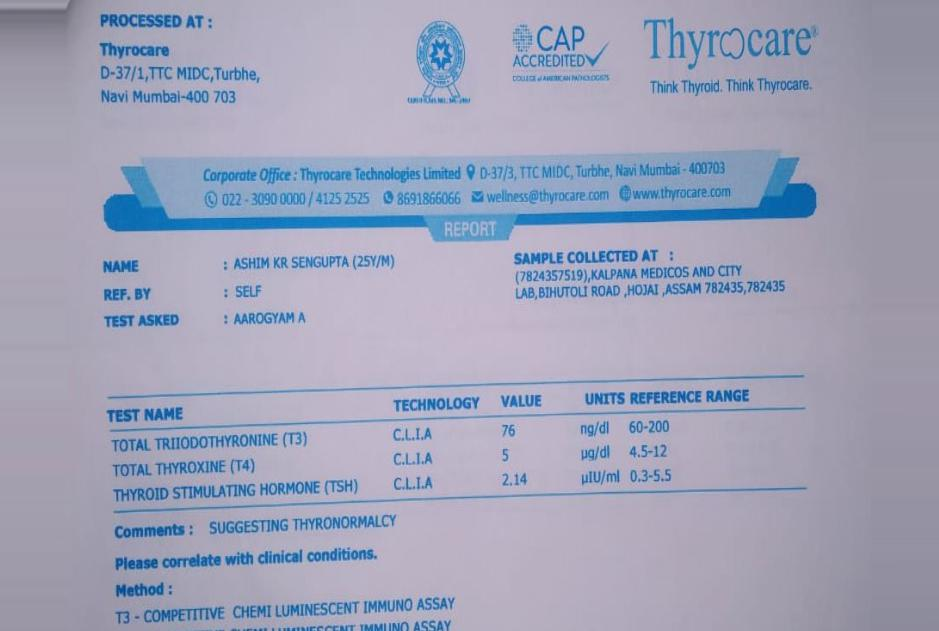Reference Range: (625, 411, 682, 495)
Test Name: (105, 426, 367, 509)
Units: (575, 412, 627, 494)
Value: (490, 415, 539, 498)
